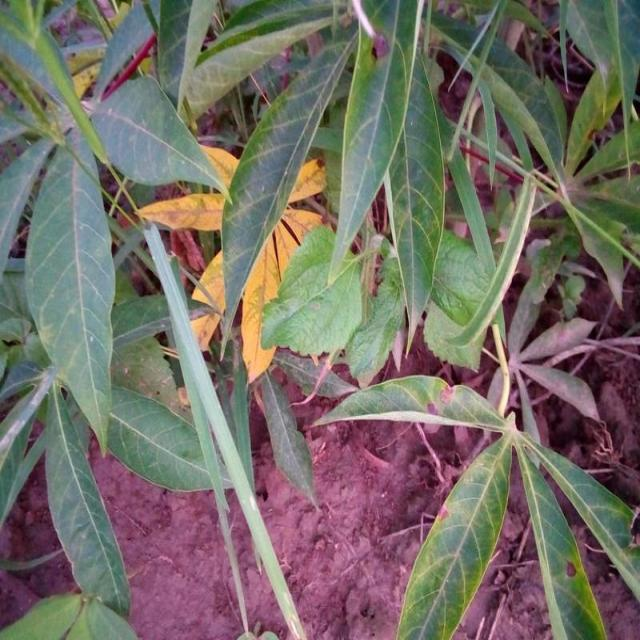cassava leaf: (2, 0, 639, 638), (220, 29, 360, 336), (24, 125, 118, 458), (397, 430, 514, 638)
